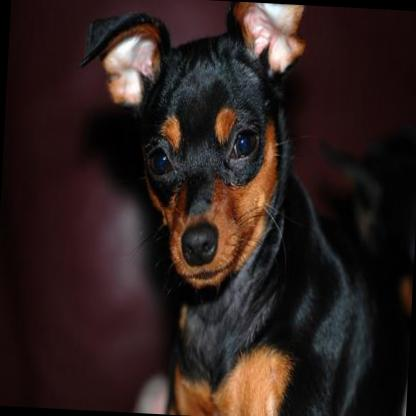miniature_pinscher: (60, 0, 416, 416)
